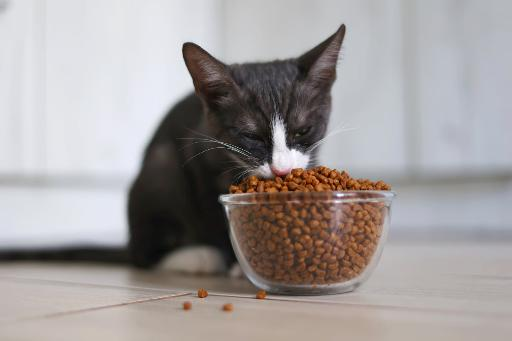cat_eating: (0, 25, 396, 294)
